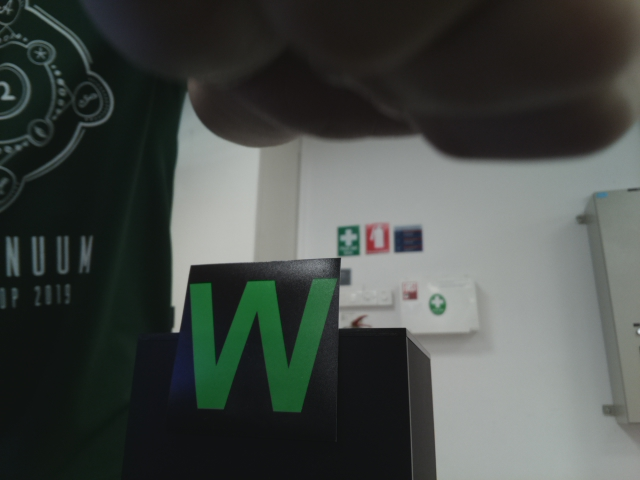w: (187, 266, 341, 417)
